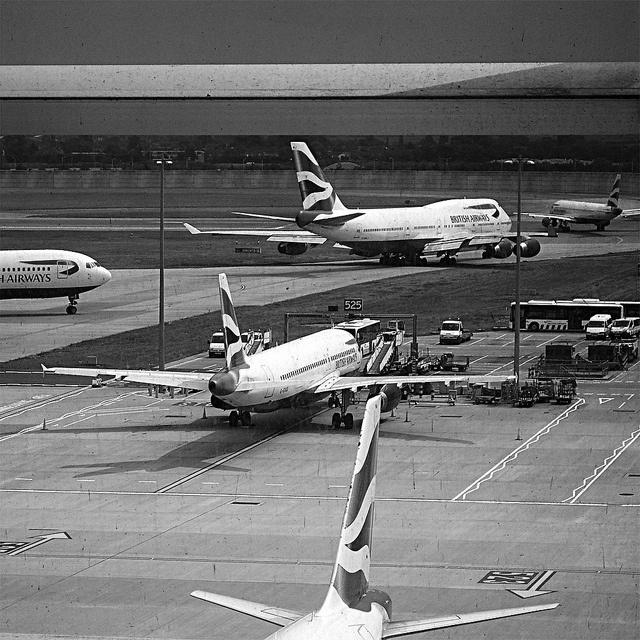bus: (507, 296, 624, 329), (599, 299, 639, 315)
truck: (436, 320, 471, 343), (584, 312, 612, 340), (609, 315, 638, 337), (204, 328, 225, 357)
